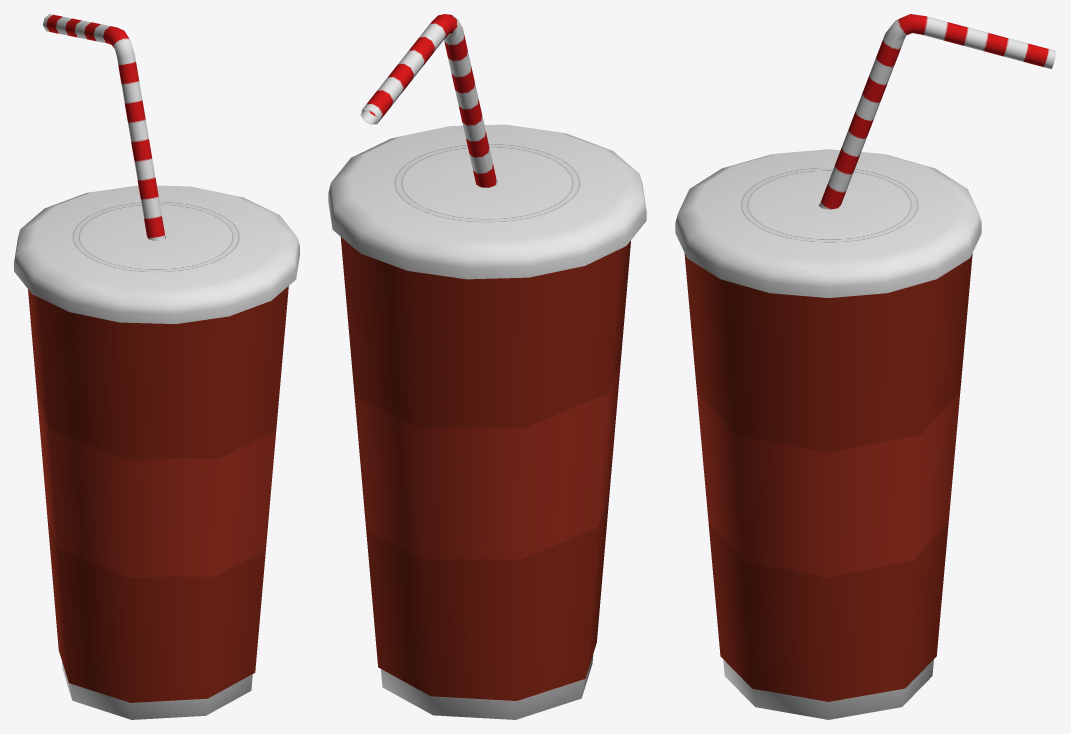
The model's file is Cup_Drink_Half.fbx.
The picture shows the model from 3 angles, left to right: view 1: azimuth 30°, elevation 25°; view 2: azimuth 150°, elevation 25°; view 3: azimuth 270°, elevation 25°; orthographic projection. The views are drawn at different scales.
Parts seen in each view (by area): view 1: Drink_Cup_H; view 2: Drink_Cup_H; view 3: Drink_Cup_H.
Boxes of the visible parts, x1=… form: Drink_Cup_H: x1=14, y1=14, x2=299, y2=719; Drink_Cup_H: x1=328, y1=14, x2=646, y2=719; Drink_Cup_H: x1=675, y1=14, x2=1056, y2=719.
Size of the model in its own units: 16.93 by 40.36 by 21.06.
